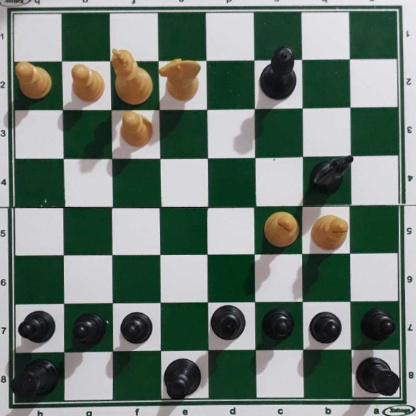black-bishop: (210, 305, 248, 342)
black-king: (163, 359, 204, 402)
black-knight: (310, 155, 355, 201)
black-pawn: (20, 311, 56, 347), (362, 312, 396, 345), (121, 313, 153, 348), (73, 314, 105, 348), (311, 312, 343, 346), (263, 311, 295, 344)
black-queen: (258, 46, 301, 102)
black-rook: (356, 358, 404, 400), (12, 361, 58, 402)
white-bishop: (262, 210, 301, 249), (311, 213, 350, 251)
white-king: (113, 50, 153, 106)
white-knight: (159, 56, 203, 102)
white-pawn: (69, 64, 105, 105), (16, 64, 53, 101), (120, 114, 155, 151)
